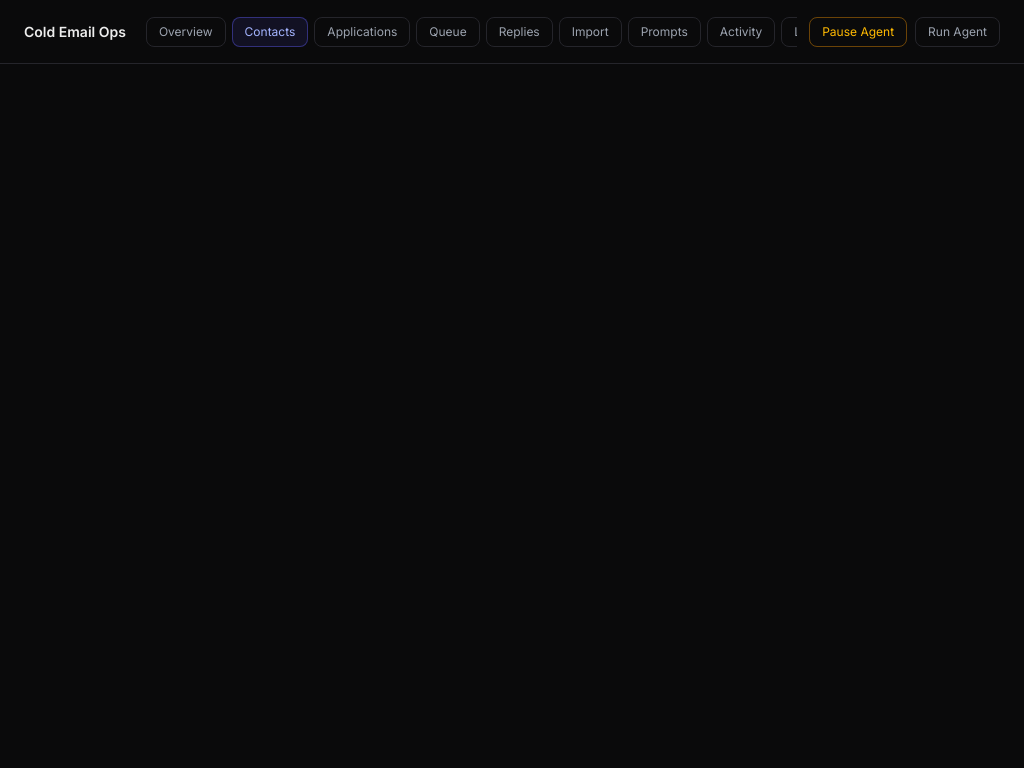
Test: Nav — not paused state › opens Run Agent confirmation modal on click
Click the button "Run Agent" at (958, 32), box [915,16,1000,46]
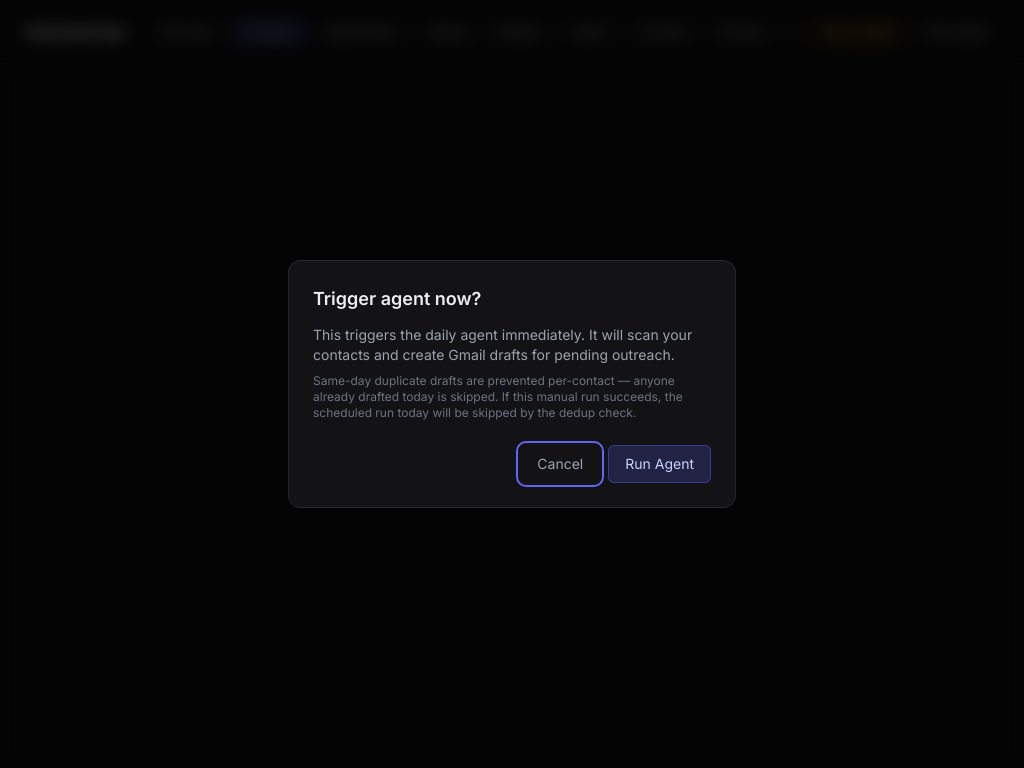
Expected: the dialog is shown, [288,260,736,508]
Expected: the heading "Trigger agent now?" is shown, [313,288,481,309]
